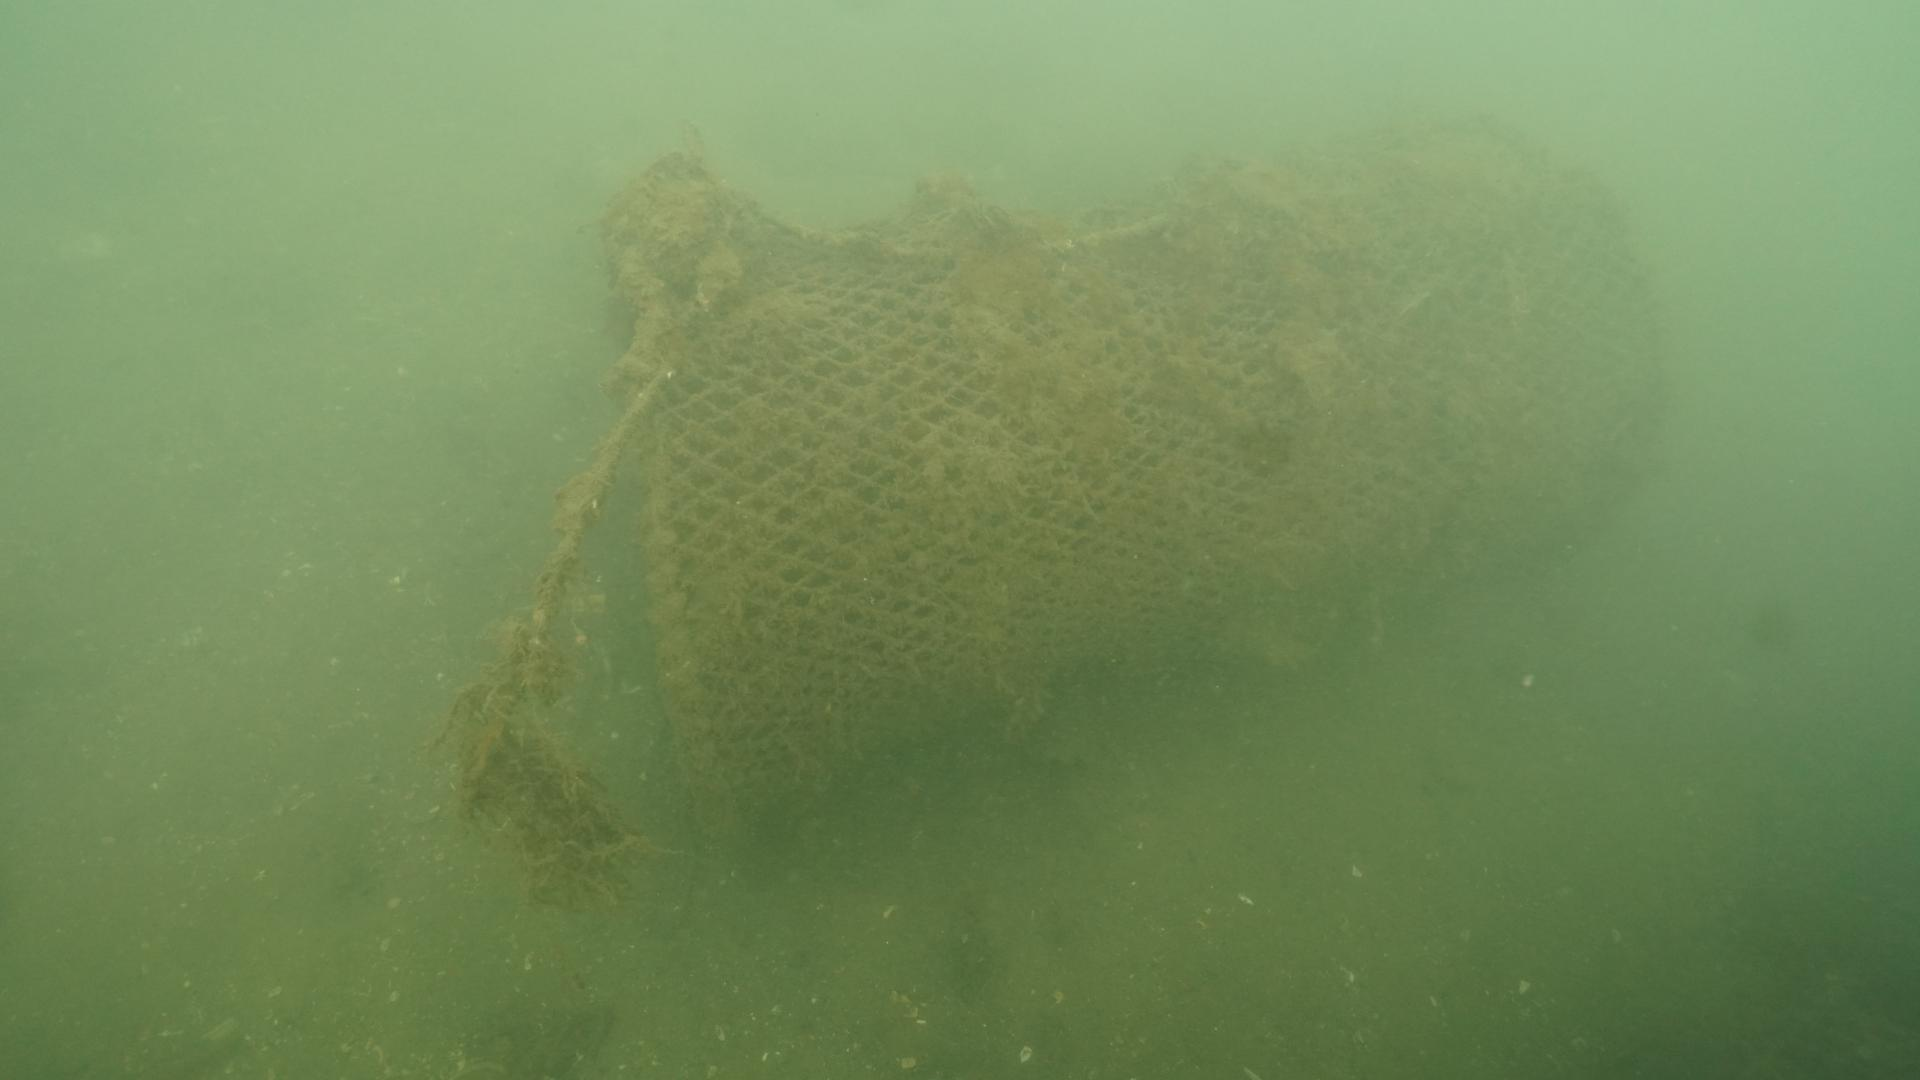rope: (506, 367, 673, 723)
spring fish trap: (615, 112, 1668, 877)
